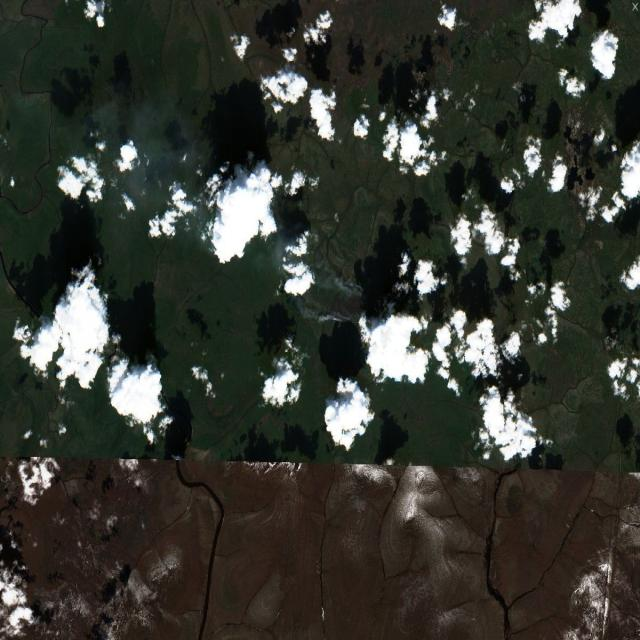fire: (321, 272, 372, 328)
